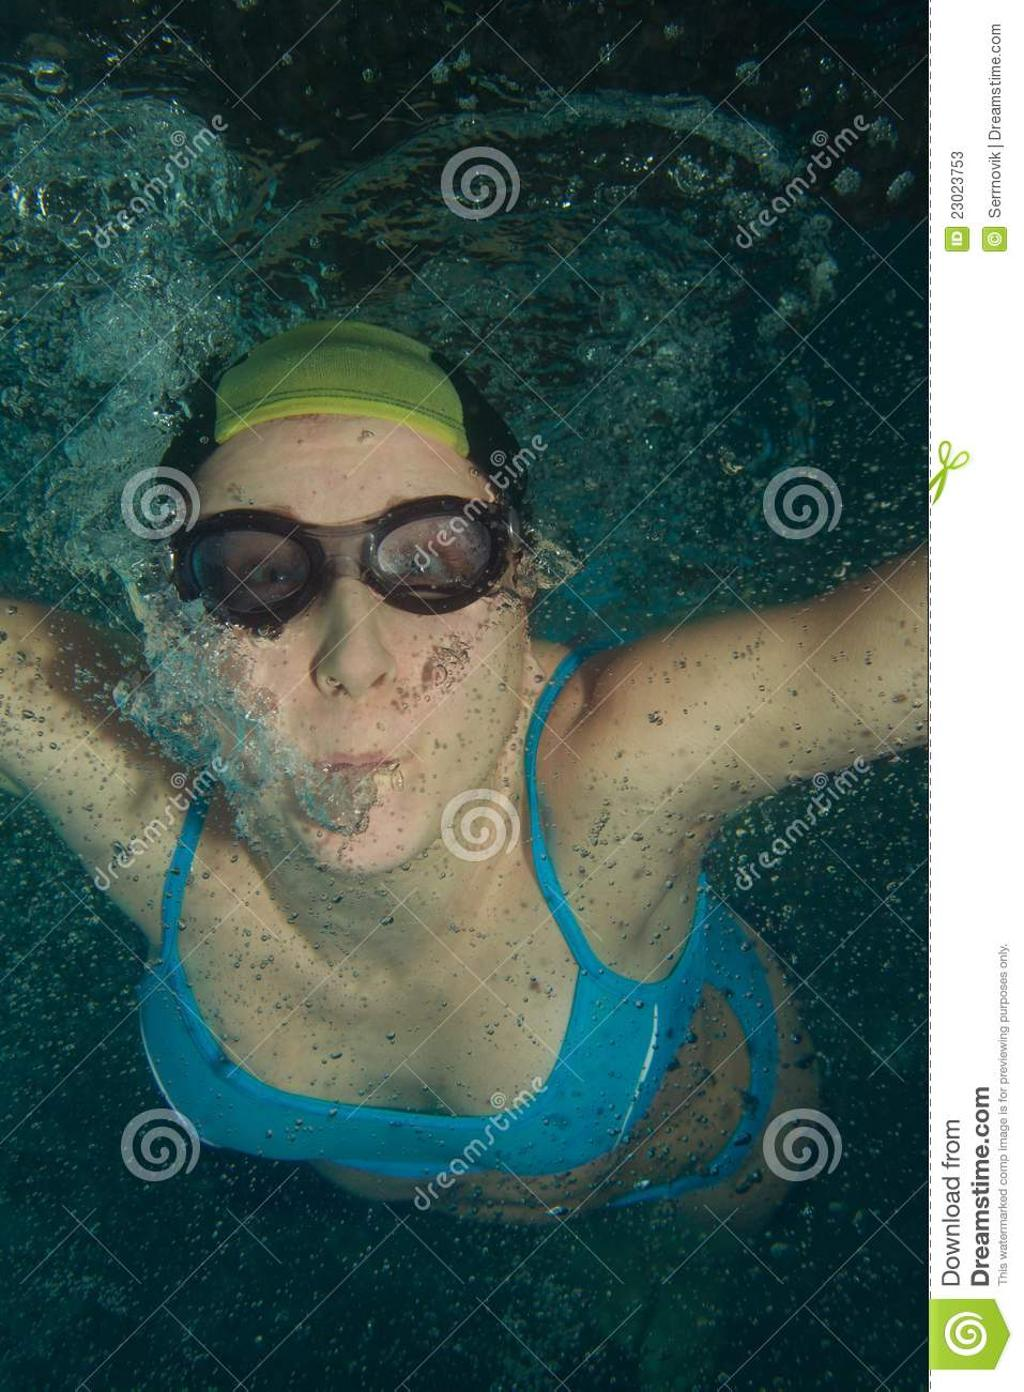face: (185, 445, 522, 863)
